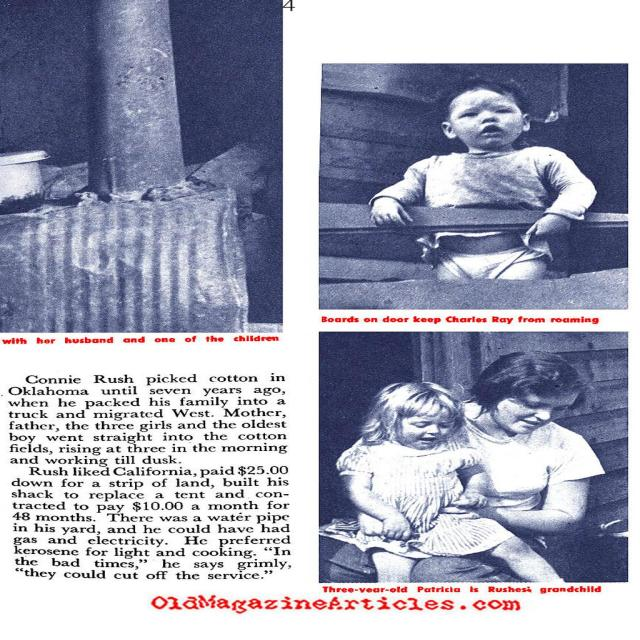nomask: (451, 89, 518, 148), (506, 386, 570, 430), (396, 403, 449, 448)
